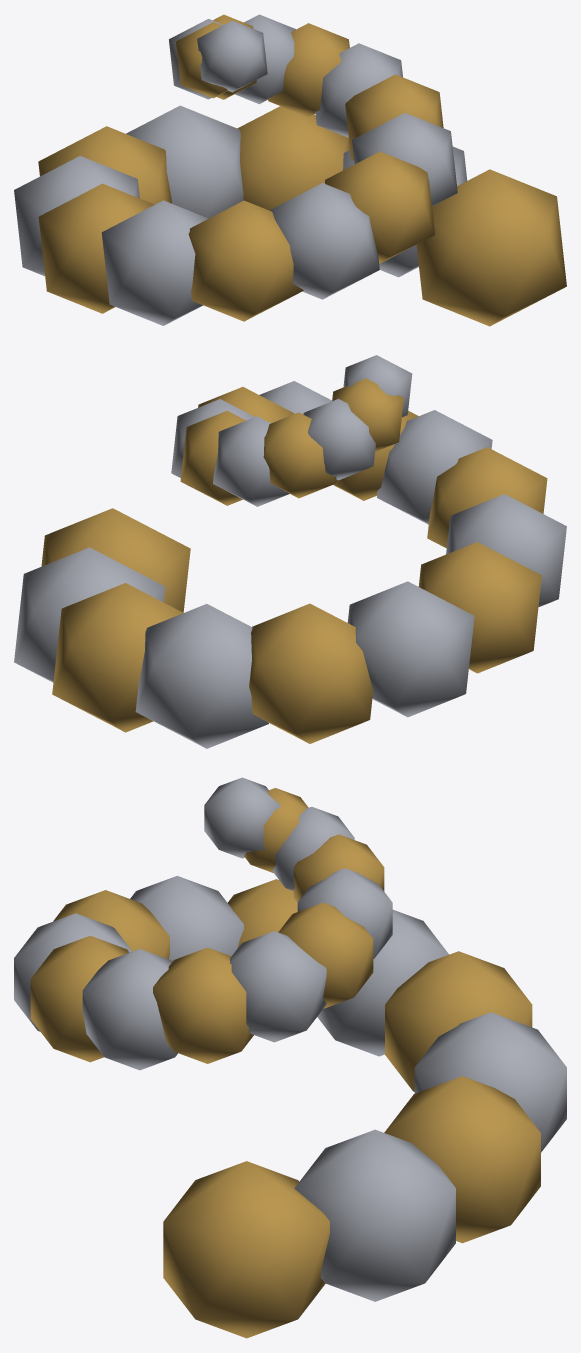
The model's file is mechanical_battery_piece.glb.
The picture shows the model from 3 angles, top to bottom: view 1: azimuth 30°, elevation 25°; view 2: azimuth 150°, elevation 25°; view 3: azimuth 270°, elevation 25°; orthographic projection. The views are drawn at different scales.
Parts seen in each view (by area): view 1: mechanical_battery_piece_v0; view 2: mechanical_battery_piece_v0; view 3: mechanical_battery_piece_v0.
Part boxes in pixels (x1,y1,x2,y2): mechanical_battery_piece_v0: [14, 14, 566, 326]; mechanical_battery_piece_v0: [14, 355, 566, 748]; mechanical_battery_piece_v0: [14, 777, 566, 1338].
Bounding box in the file's own units: 0.2315 × 0.165 × 0.1977.
